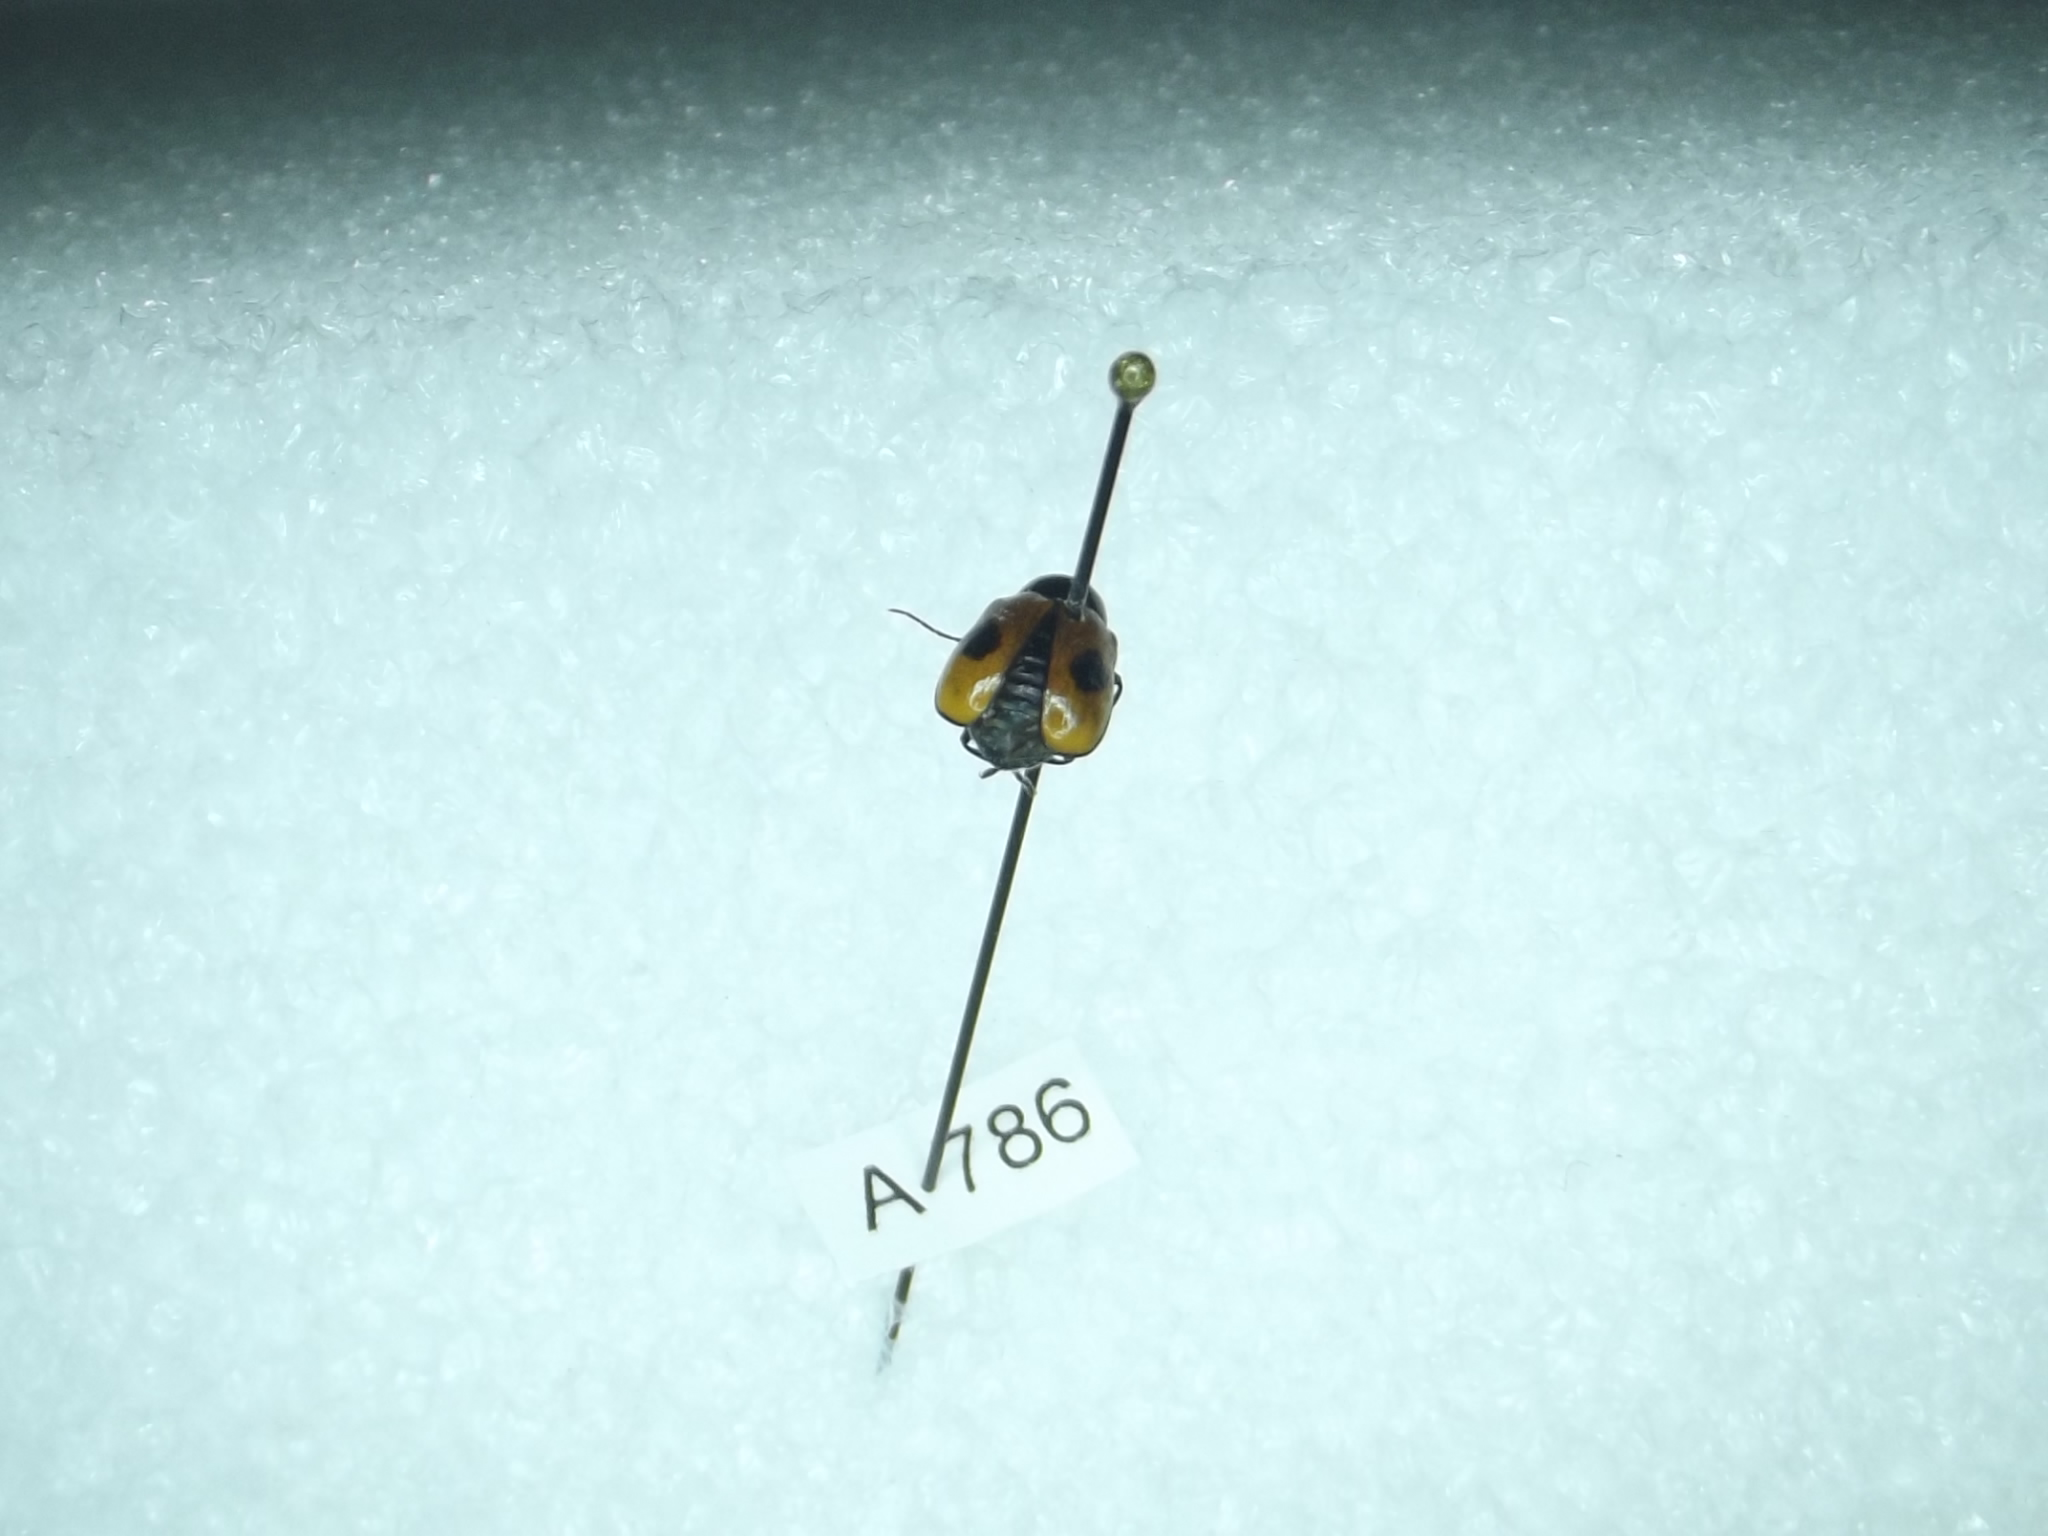Cryptocephalus_bipunctatus: (885, 566, 1130, 787)
